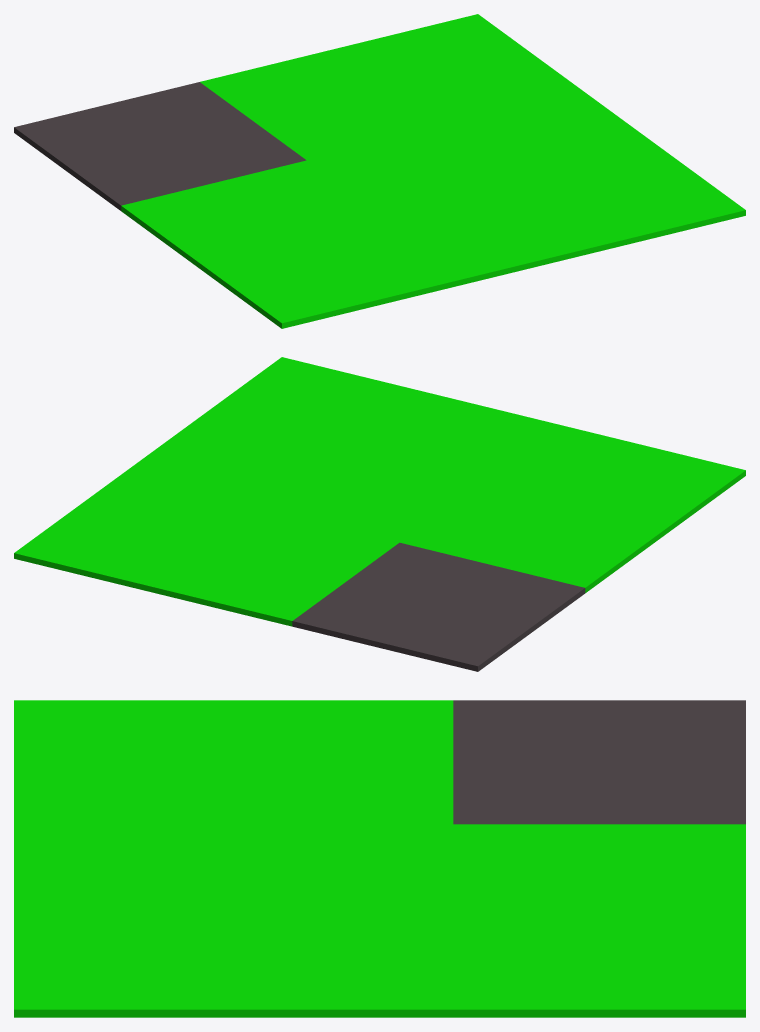
The model's file is Chunk_1_-1.glb.
3 views of the same model, one above another, from view 1: azimuth 30°, elevation 25°; view 2: azimuth 150°, elevation 25°; view 3: azimuth 270°, elevation 25° (orthographic). The views are drawn at different scales.
Parts seen in each view (by area): view 1: GrassTile.046, GrassTile.038, GrassTile.039, GrassTile.047, GrassTile.037, GrassTile.044, RoadTile.009, GrassTile.048, RoadTile.011, RoadTile.010, GrassTile.073, GrassTile.075 (+13 smaller); view 2: RoadTile.011, GrassTile.073, GrassTile.074, RoadTile.012, GrassTile.077, RoadTile.009, GrassTile.044, GrassTile.048, GrassTile.046, GrassTile.045, GrassTile.038, GrassTile.042 (+13 smaller); view 3: GrassTile.050, GrassTile.037, GrassTile.051, GrassTile.077, GrassTile.078, GrassTile.048, GrassTile.049, RoadTile.009, RoadTile.010, GrassTile.044, GrassTile.045, RoadTile.011 (+13 smaller).
Part boxes in pixels (x1=…): GrassTile.046: x1=228, y1=261, x2=374, y2=328; GrassTile.038: x1=414, y1=216, x2=560, y2=283; GrassTile.039: x1=507, y1=193, x2=653, y2=260; GrassTile.047: x1=321, y1=239, x2=467, y2=305; GrassTile.037: x1=600, y1=171, x2=745, y2=238; GrassTile.044: x1=174, y1=222, x2=320, y2=289; RoadTile.009: x1=67, y1=144, x2=213, y2=210; GrassTile.048: x1=121, y1=183, x2=266, y2=249; RoadTile.011: x1=14, y1=104, x2=159, y2=171; RoadTile.010: x1=160, y1=121, x2=306, y2=182; GrassTile.073: x1=200, y1=59, x2=345, y2=120; GrassTile.075: x1=253, y1=98, x2=399, y2=160; RoadTile.011: x1=385, y1=604, x2=531, y2=671; GrassTile.073: x1=199, y1=559, x2=345, y2=626; GrassTile.074: x1=106, y1=536, x2=252, y2=603; RoadTile.012: x1=292, y1=582, x2=438, y2=648; GrassTile.077: x1=14, y1=514, x2=159, y2=581; RoadTile.009: x1=439, y1=565, x2=585, y2=632; GrassTile.044: x1=546, y1=487, x2=692, y2=553; GrassTile.048: x1=493, y1=526, x2=638, y2=592; GrassTile.046: x1=600, y1=447, x2=745, y2=514; GrassTile.045: x1=453, y1=464, x2=599, y2=525; GrassTile.038: x1=414, y1=402, x2=559, y2=463; GrassTile.042: x1=360, y1=441, x2=506, y2=503; GrassTile.050: x1=306, y1=948, x2=453, y2=1017; GrassTile.037: x1=14, y1=948, x2=160, y2=1017; GrassTile.051: x1=160, y1=948, x2=306, y2=1017; GrassTile.077: x1=599, y1=948, x2=745, y2=1017; GrassTile.078: x1=453, y1=948, x2=599, y2=1017; GrassTile.048: x1=306, y1=700, x2=453, y2=762; GrassTile.049: x1=306, y1=762, x2=453, y2=824; RoadTile.009: x1=453, y1=700, x2=599, y2=762; RoadTile.010: x1=453, y1=762, x2=599, y2=824; GrassTile.044: x1=160, y1=700, x2=306, y2=762; GrassTile.045: x1=160, y1=762, x2=306, y2=824; RoadTile.011: x1=599, y1=700, x2=745, y2=762.
Bounding box in the file's own units: 10 × 0.116 × 10.
